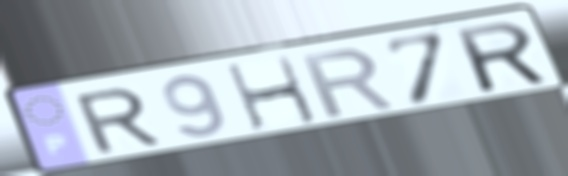7: (385, 28, 448, 108)
9: (157, 72, 231, 141)
H: (221, 52, 323, 134)
R: (450, 18, 554, 96), (297, 45, 400, 121), (69, 85, 165, 157)
